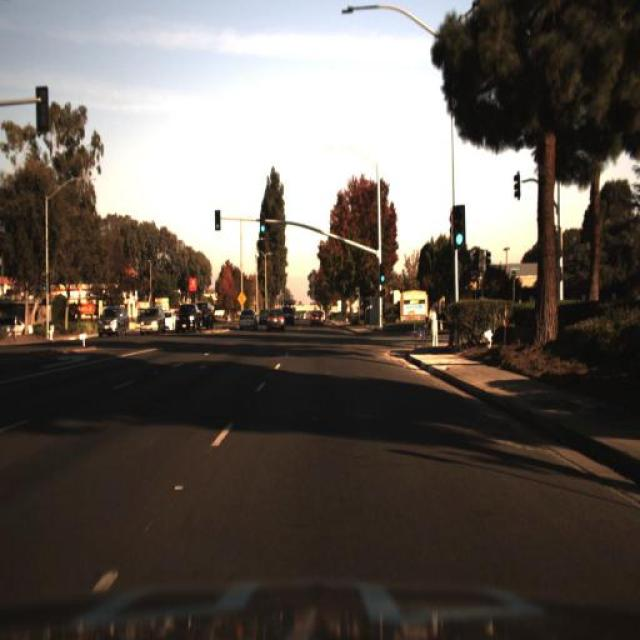car: (92, 301, 129, 337), (168, 299, 202, 337), (173, 301, 204, 337), (137, 302, 167, 336), (232, 302, 260, 338), (263, 301, 289, 335), (194, 298, 216, 326), (308, 302, 328, 332), (276, 301, 296, 328)
trafficLight: (425, 302, 443, 348)
trafficLight-GreenLeft: (452, 206, 471, 253), (451, 204, 465, 256), (256, 211, 266, 238), (379, 262, 388, 288), (258, 207, 266, 234), (376, 264, 386, 285)
trafficLight-Red: (209, 207, 222, 236), (212, 202, 222, 232), (38, 270, 48, 294)
